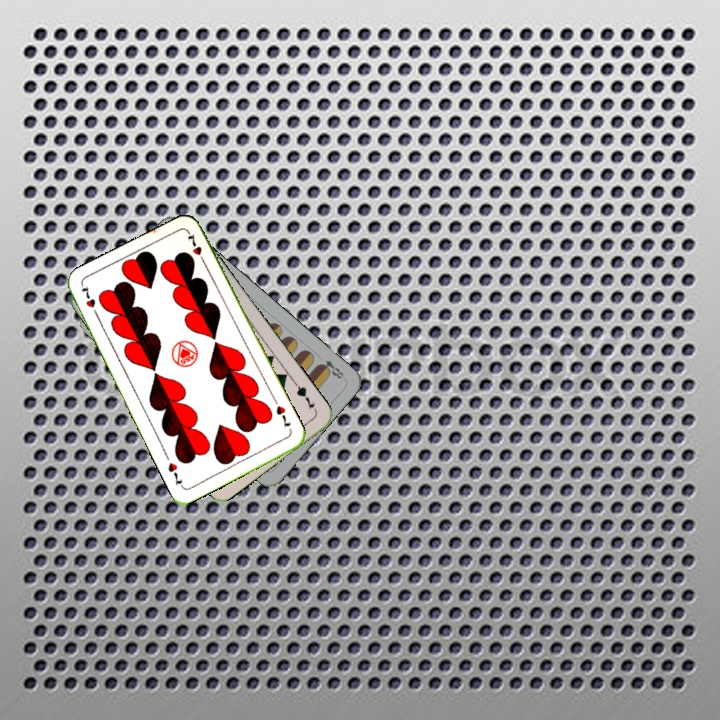E8: (314, 356, 348, 382)
G7: (291, 379, 320, 415)
H7: (77, 282, 101, 320), (272, 402, 293, 431)
